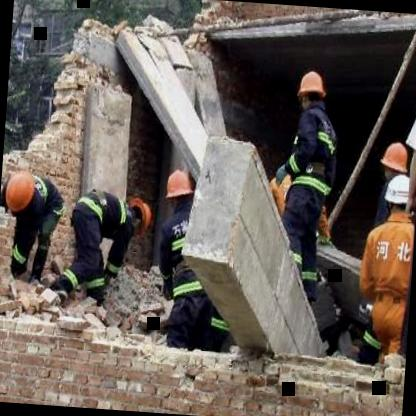helmet: (3, 168, 38, 214), (384, 174, 416, 214), (296, 71, 327, 111), (165, 168, 194, 210), (379, 142, 412, 178), (124, 198, 152, 238)
